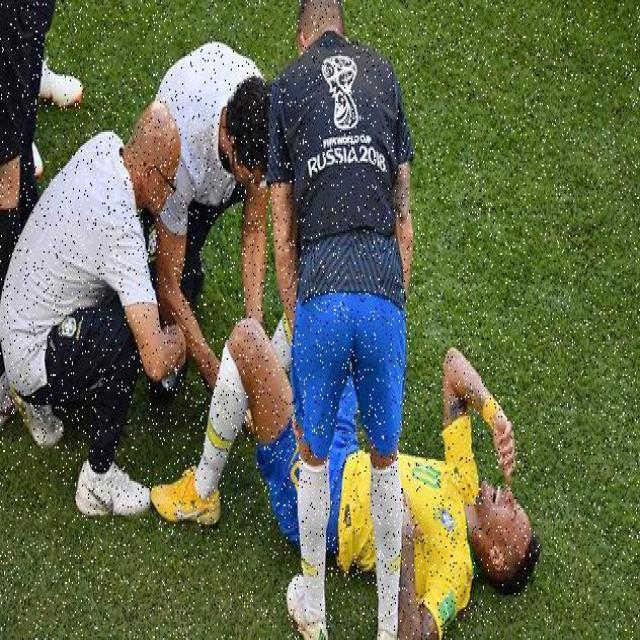fall: (205, 316, 548, 610)
